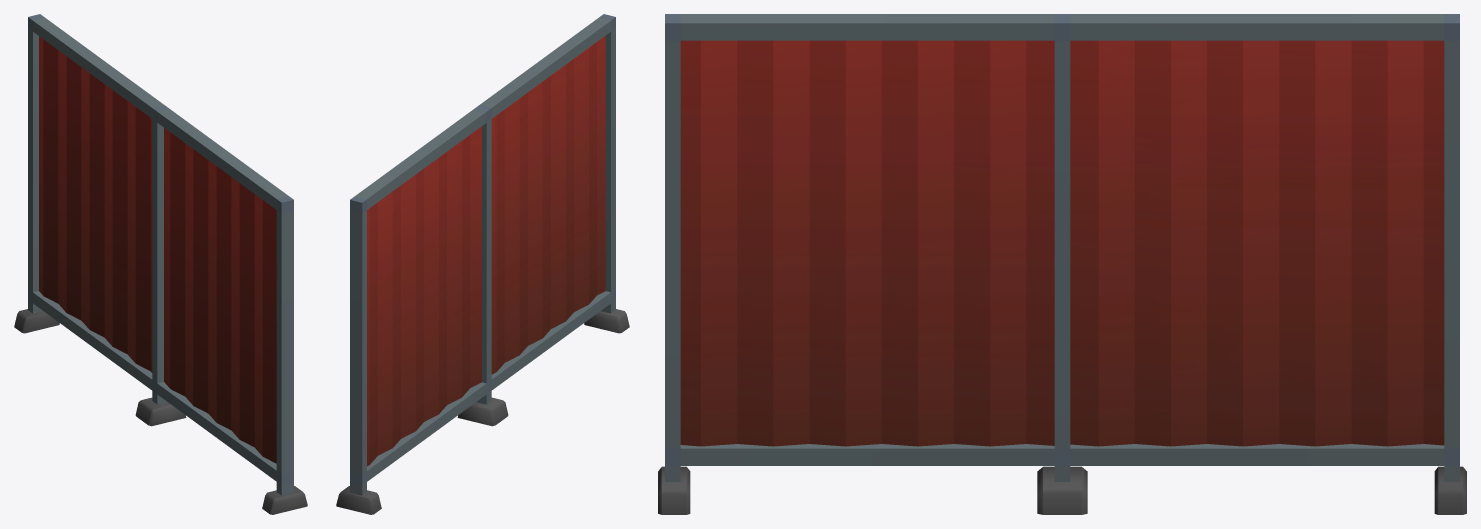
The model's file is Barier_1_6.fbx.
3 renders of one model, left to right at view 1: azimuth 30°, elevation 25°; view 2: azimuth 150°, elevation 25°; view 3: azimuth 270°, elevation 25°, orthographic. The views are drawn at different scales.
Parts seen in each view (by area): view 1: Barier_1_6; view 2: Barier_1_6; view 3: Barier_1_6.
Part boxes in pixels (left/top/right/bottom): Barier_1_6: left=14, top=14, right=307, bottom=514; Barier_1_6: left=336, top=14, right=629, bottom=514; Barier_1_6: left=658, top=14, right=1466, bottom=514.
Size of the model in its own units: 34.35 by 268 by 407.
